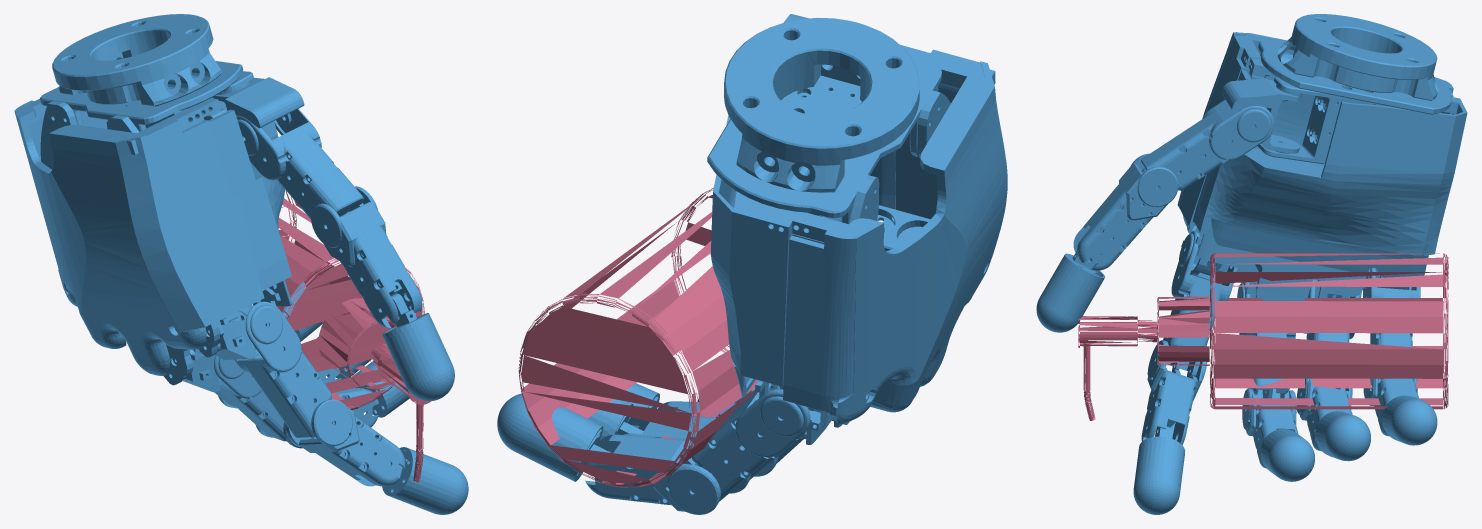
The picture shows the model from 3 angles, left to right: view 1: azimuth 30°, elevation 25°; view 2: azimuth 150°, elevation 25°; view 3: azimuth 270°, elevation 25°; orthographic projection. The views are drawn at different scales.
Parts seen in each view (by area): view 1: 0; view 2: 0; view 3: 0.
Boxes of the visible parts, box(x1,y1,x2,y2) form: 0: box(14, 14, 468, 514); 0: box(497, 14, 1007, 514); 0: box(1036, 14, 1467, 514).
Size of the model in its own units: 0.1575 by 0.1924 by 0.185.
